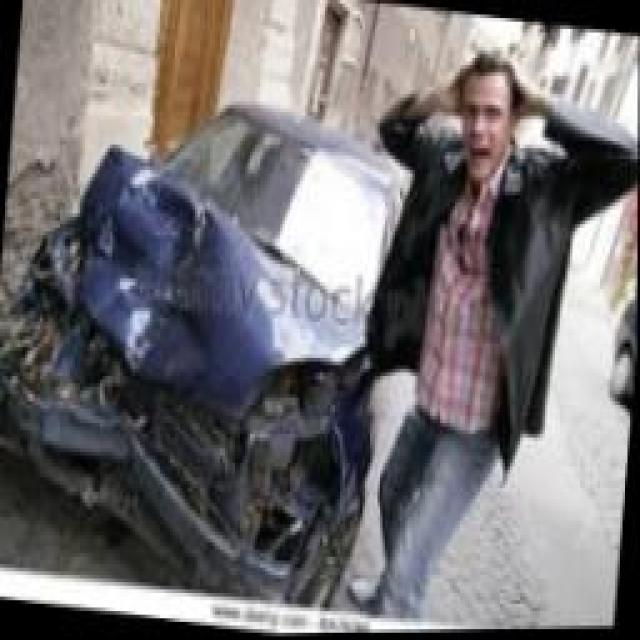Bonnet: (85, 145, 340, 402)
Bumper: (0, 319, 288, 612)
Light: (242, 405, 306, 475), (25, 264, 81, 337)
